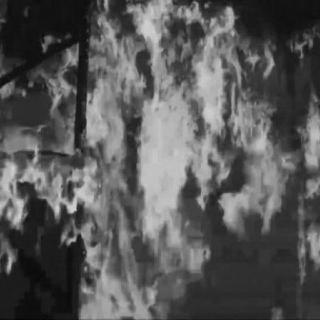Fire: (1, 6, 318, 316)
